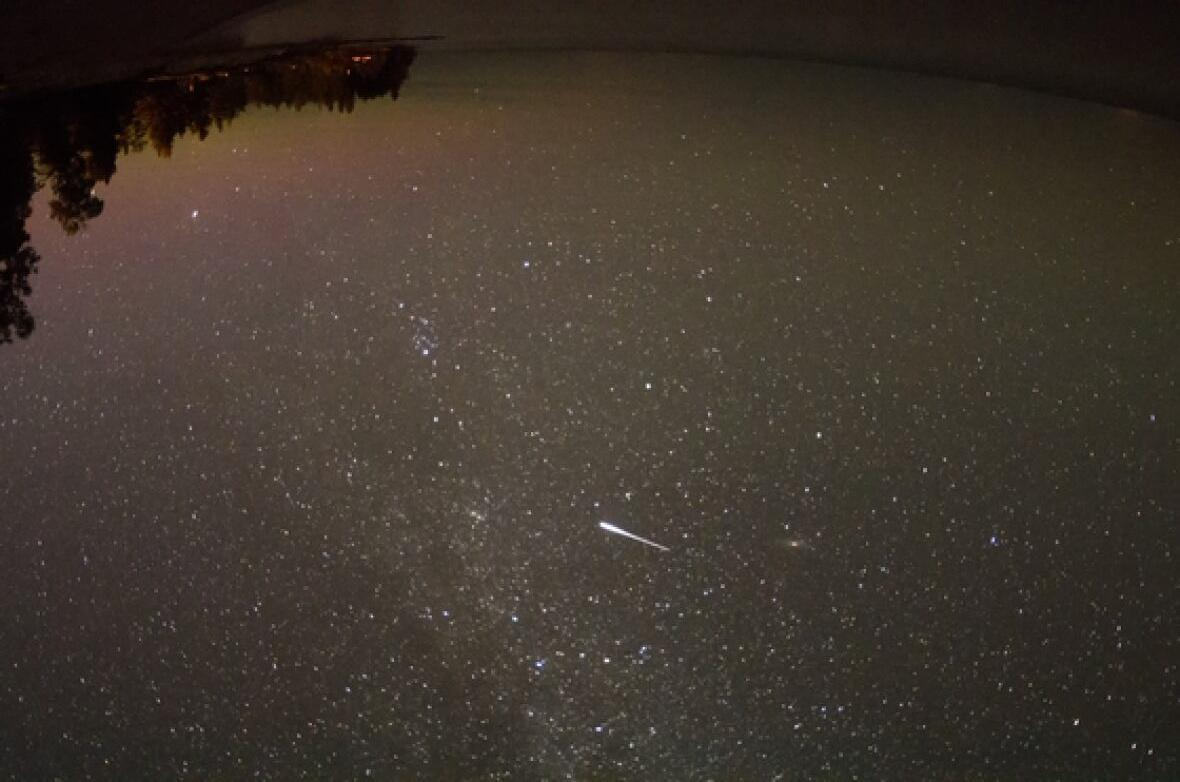meteorite: (552, 511, 721, 555)
